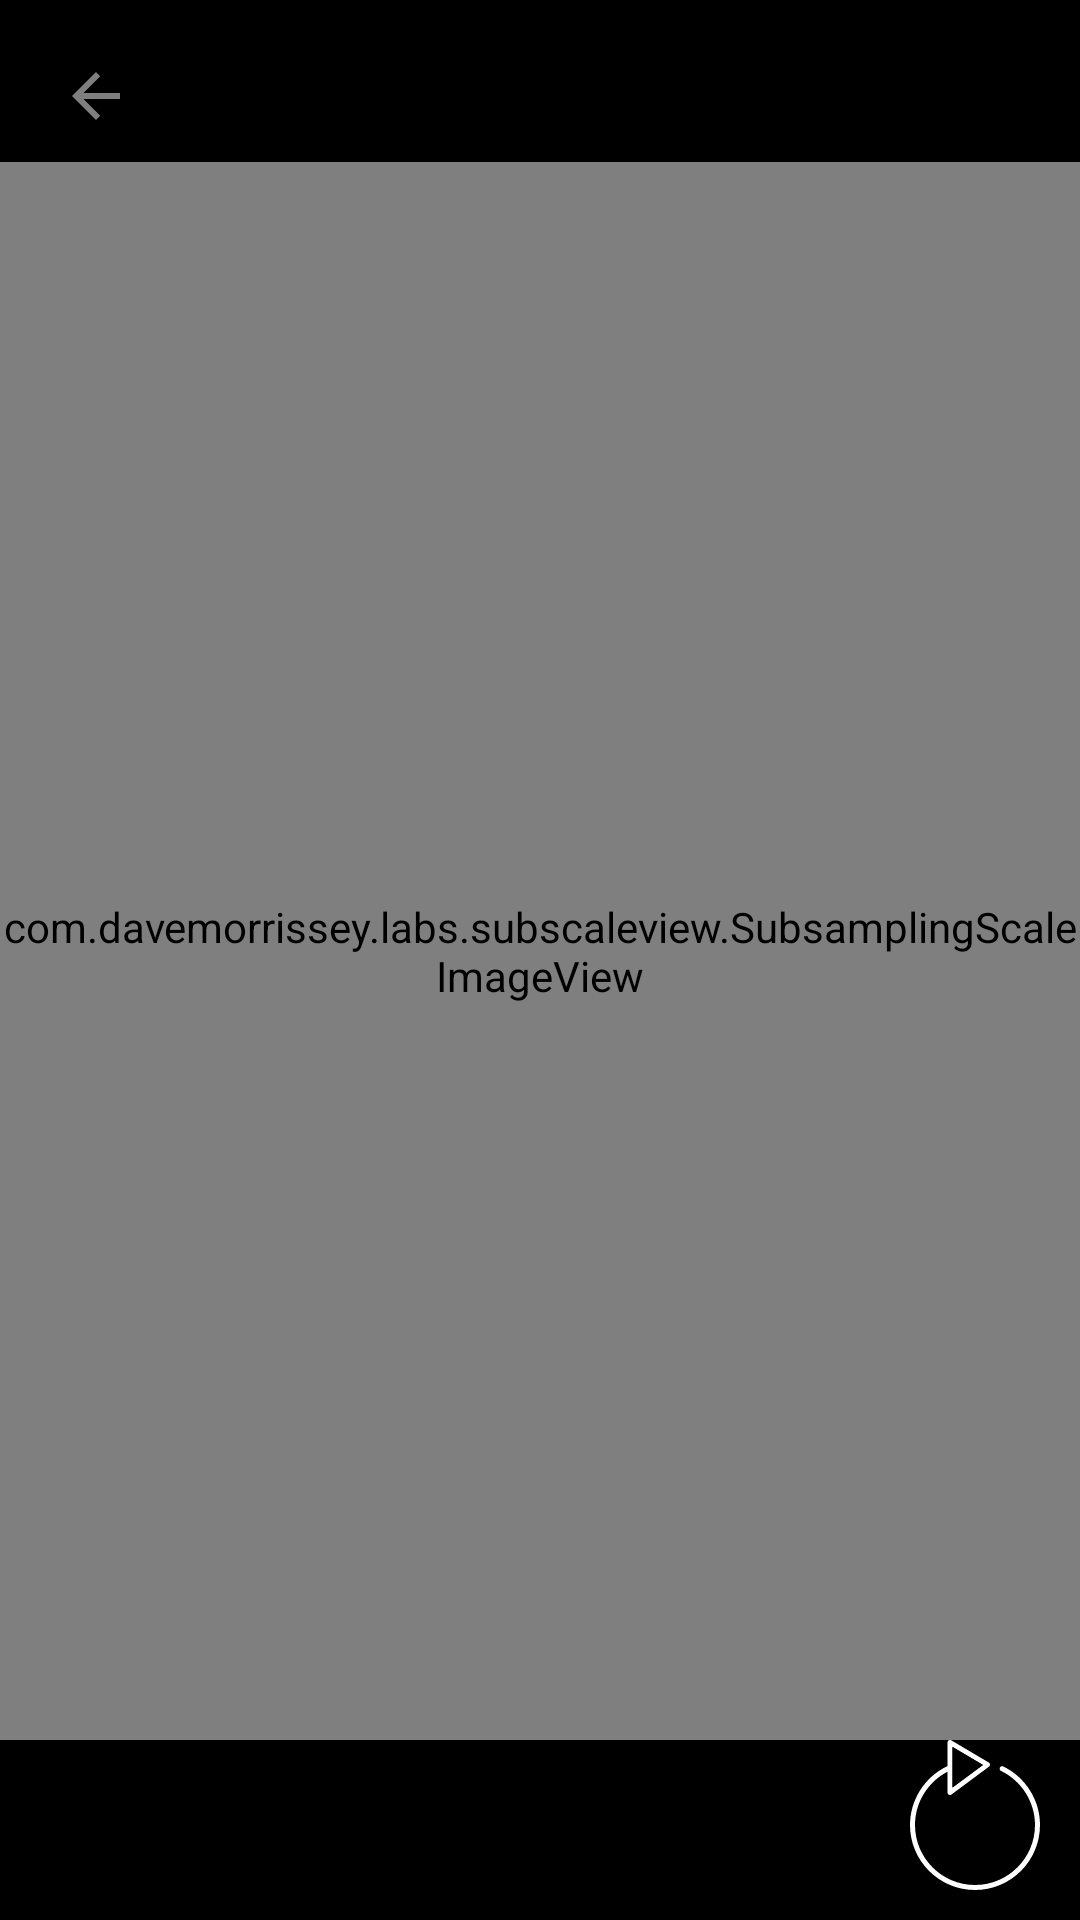

Locate icon controls on the screen. Image size 1080w x 1920h, boxes as (x1,y1,x2,y2).
arrow back: (72,72,120,120)
turn pic: (910,1740,1040,1890)
